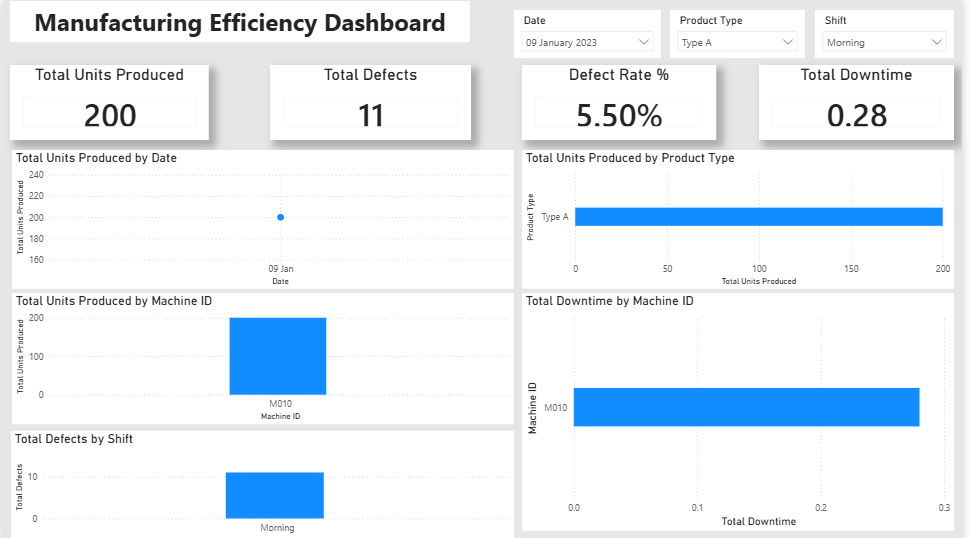

Layout of this report page (visuals, bound fields, positions):
{"tool":"powerbi","page":{"name":"Page 1","canvas":[1280,720],"ordinal":0},"visuals":[{"type":"textbox","box":[10.7,0,613.3,54.7],"z":0},{"type":"cardVisual","title":"Total Units Produced","fields":{"Data":["Measures (2).Total Units Produced"]},"box":[10.7,85.3,265.3,100],"z":1000},{"type":"cardVisual","title":"Total Defects","fields":{"Data":["Measures (2).Total Defects"]},"box":[357.3,85.3,268,100],"z":2000},{"type":"cardVisual","title":"Defect Rate %","fields":{"Data":["Measures (2).Defect Rate %"]},"box":[693.3,85.3,258.7,100],"z":3000},{"type":"cardVisual","title":"Total Downtime","fields":{"Data":["Measures (2).Total Downtime"]},"box":[1009.3,85.3,260,100],"z":4000},{"type":"lineChart","fields":{"Y":["Measures (2).Total Units Produced"],"Category":["Manufacturing Data.Date"]},"box":[13.3,198.7,669.3,185.3],"z":5000},{"type":"clusteredBarChart","fields":{"Category":["Manufacturing Data.Product Type"],"Y":["Measures (2).Total Units Produced"]},"box":[693.3,198.7,576,185.3],"z":6000},{"type":"clusteredColumnChart","fields":{"Category":["Manufacturing Data.Machine ID"],"Y":["Measures (2).Total Units Produced"]},"box":[13.3,389.3,669.3,174.7],"z":7000},{"type":"clusteredBarChart","fields":{"Category":["Manufacturing Data.Machine ID"],"Y":["Measures (2).Total Downtime"]},"box":[693.3,389.3,576,317.3],"z":8000},{"type":"clusteredColumnChart","fields":{"Category":["Manufacturing Data.Shift"],"Y":["Measures (2).Total Defects"]},"box":[12,573.3,670.7,146.7],"z":9000},{"type":"slicer","fields":{"Values":["Manufacturing Data.Date"]},"box":[682.7,12,196,64],"z":10000},{"type":"slicer","fields":{"Values":["Manufacturing Data.Product Type"]},"box":[890.7,12,180,64],"z":11000},{"type":"slicer","fields":{"Values":["Manufacturing Data.Shift"]},"box":[1084,12,185.3,64],"z":12000}]}

Visuals, with their boxes in screenshot pixels (x1, y1, x2, y2), scaled from the page's 1280x720 canvas onto the 970x538 screenshot:
textbox: {"left": 8, "top": 0, "right": 473, "bottom": 41}
"Total Units Produced" cardVisual: {"left": 8, "top": 64, "right": 209, "bottom": 138}
"Total Defects" cardVisual: {"left": 271, "top": 64, "right": 474, "bottom": 138}
"Defect Rate %" cardVisual: {"left": 525, "top": 64, "right": 721, "bottom": 138}
"Total Downtime" cardVisual: {"left": 765, "top": 64, "right": 962, "bottom": 138}
lineChart - Measures (2).Total Units Produced x Manufacturing Data.Date: {"left": 10, "top": 148, "right": 517, "bottom": 287}
clusteredBarChart - Manufacturing Data.Product Type x Measures (2).Total Units Produced: {"left": 525, "top": 148, "right": 962, "bottom": 287}
clusteredColumnChart - Manufacturing Data.Machine ID x Measures (2).Total Units Produced: {"left": 10, "top": 291, "right": 517, "bottom": 421}
clusteredBarChart - Manufacturing Data.Machine ID x Measures (2).Total Downtime: {"left": 525, "top": 291, "right": 962, "bottom": 528}
clusteredColumnChart - Manufacturing Data.Shift x Measures (2).Total Defects: {"left": 9, "top": 428, "right": 517, "bottom": 537}
slicer - Manufacturing Data.Date: {"left": 517, "top": 9, "right": 666, "bottom": 57}
slicer - Manufacturing Data.Product Type: {"left": 675, "top": 9, "right": 811, "bottom": 57}
slicer - Manufacturing Data.Shift: {"left": 821, "top": 9, "right": 962, "bottom": 57}
